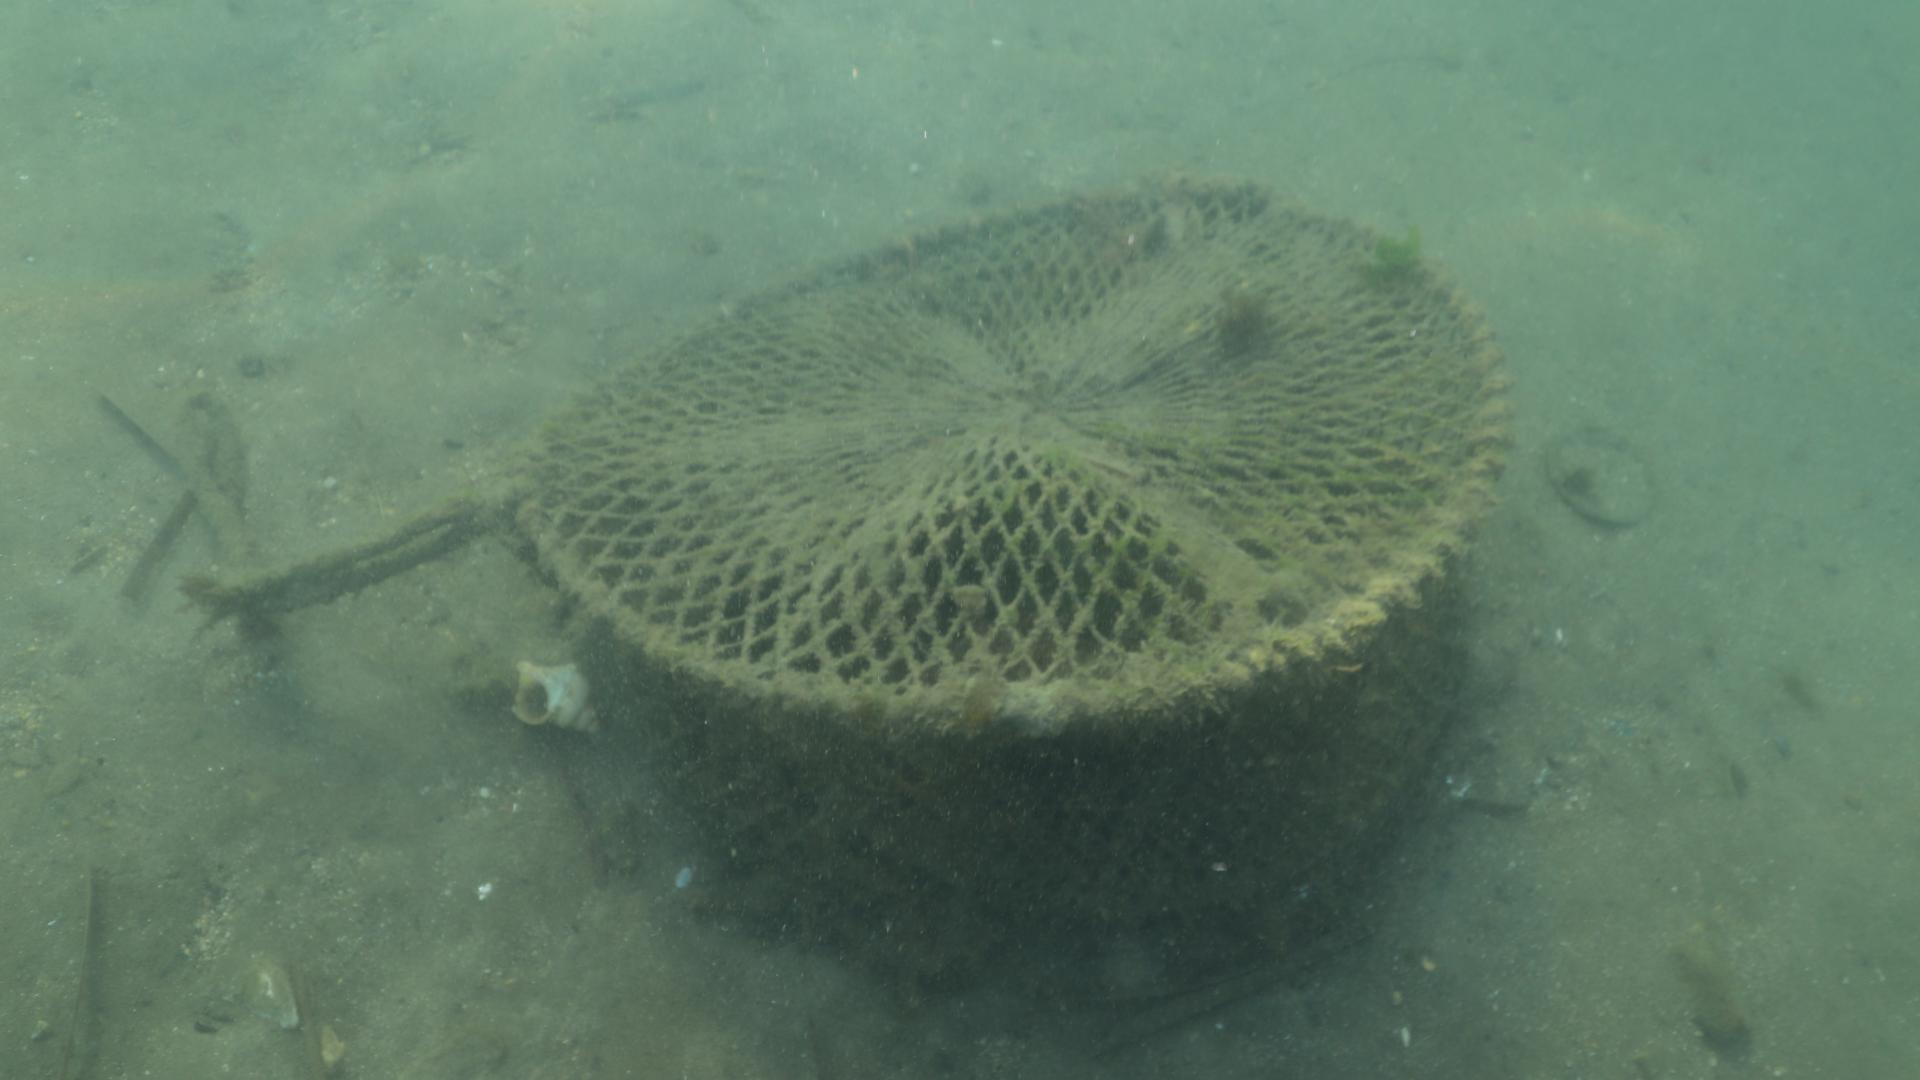bundle of ropes: (165, 385, 495, 616)
circular fish trap: (506, 170, 1509, 935)
